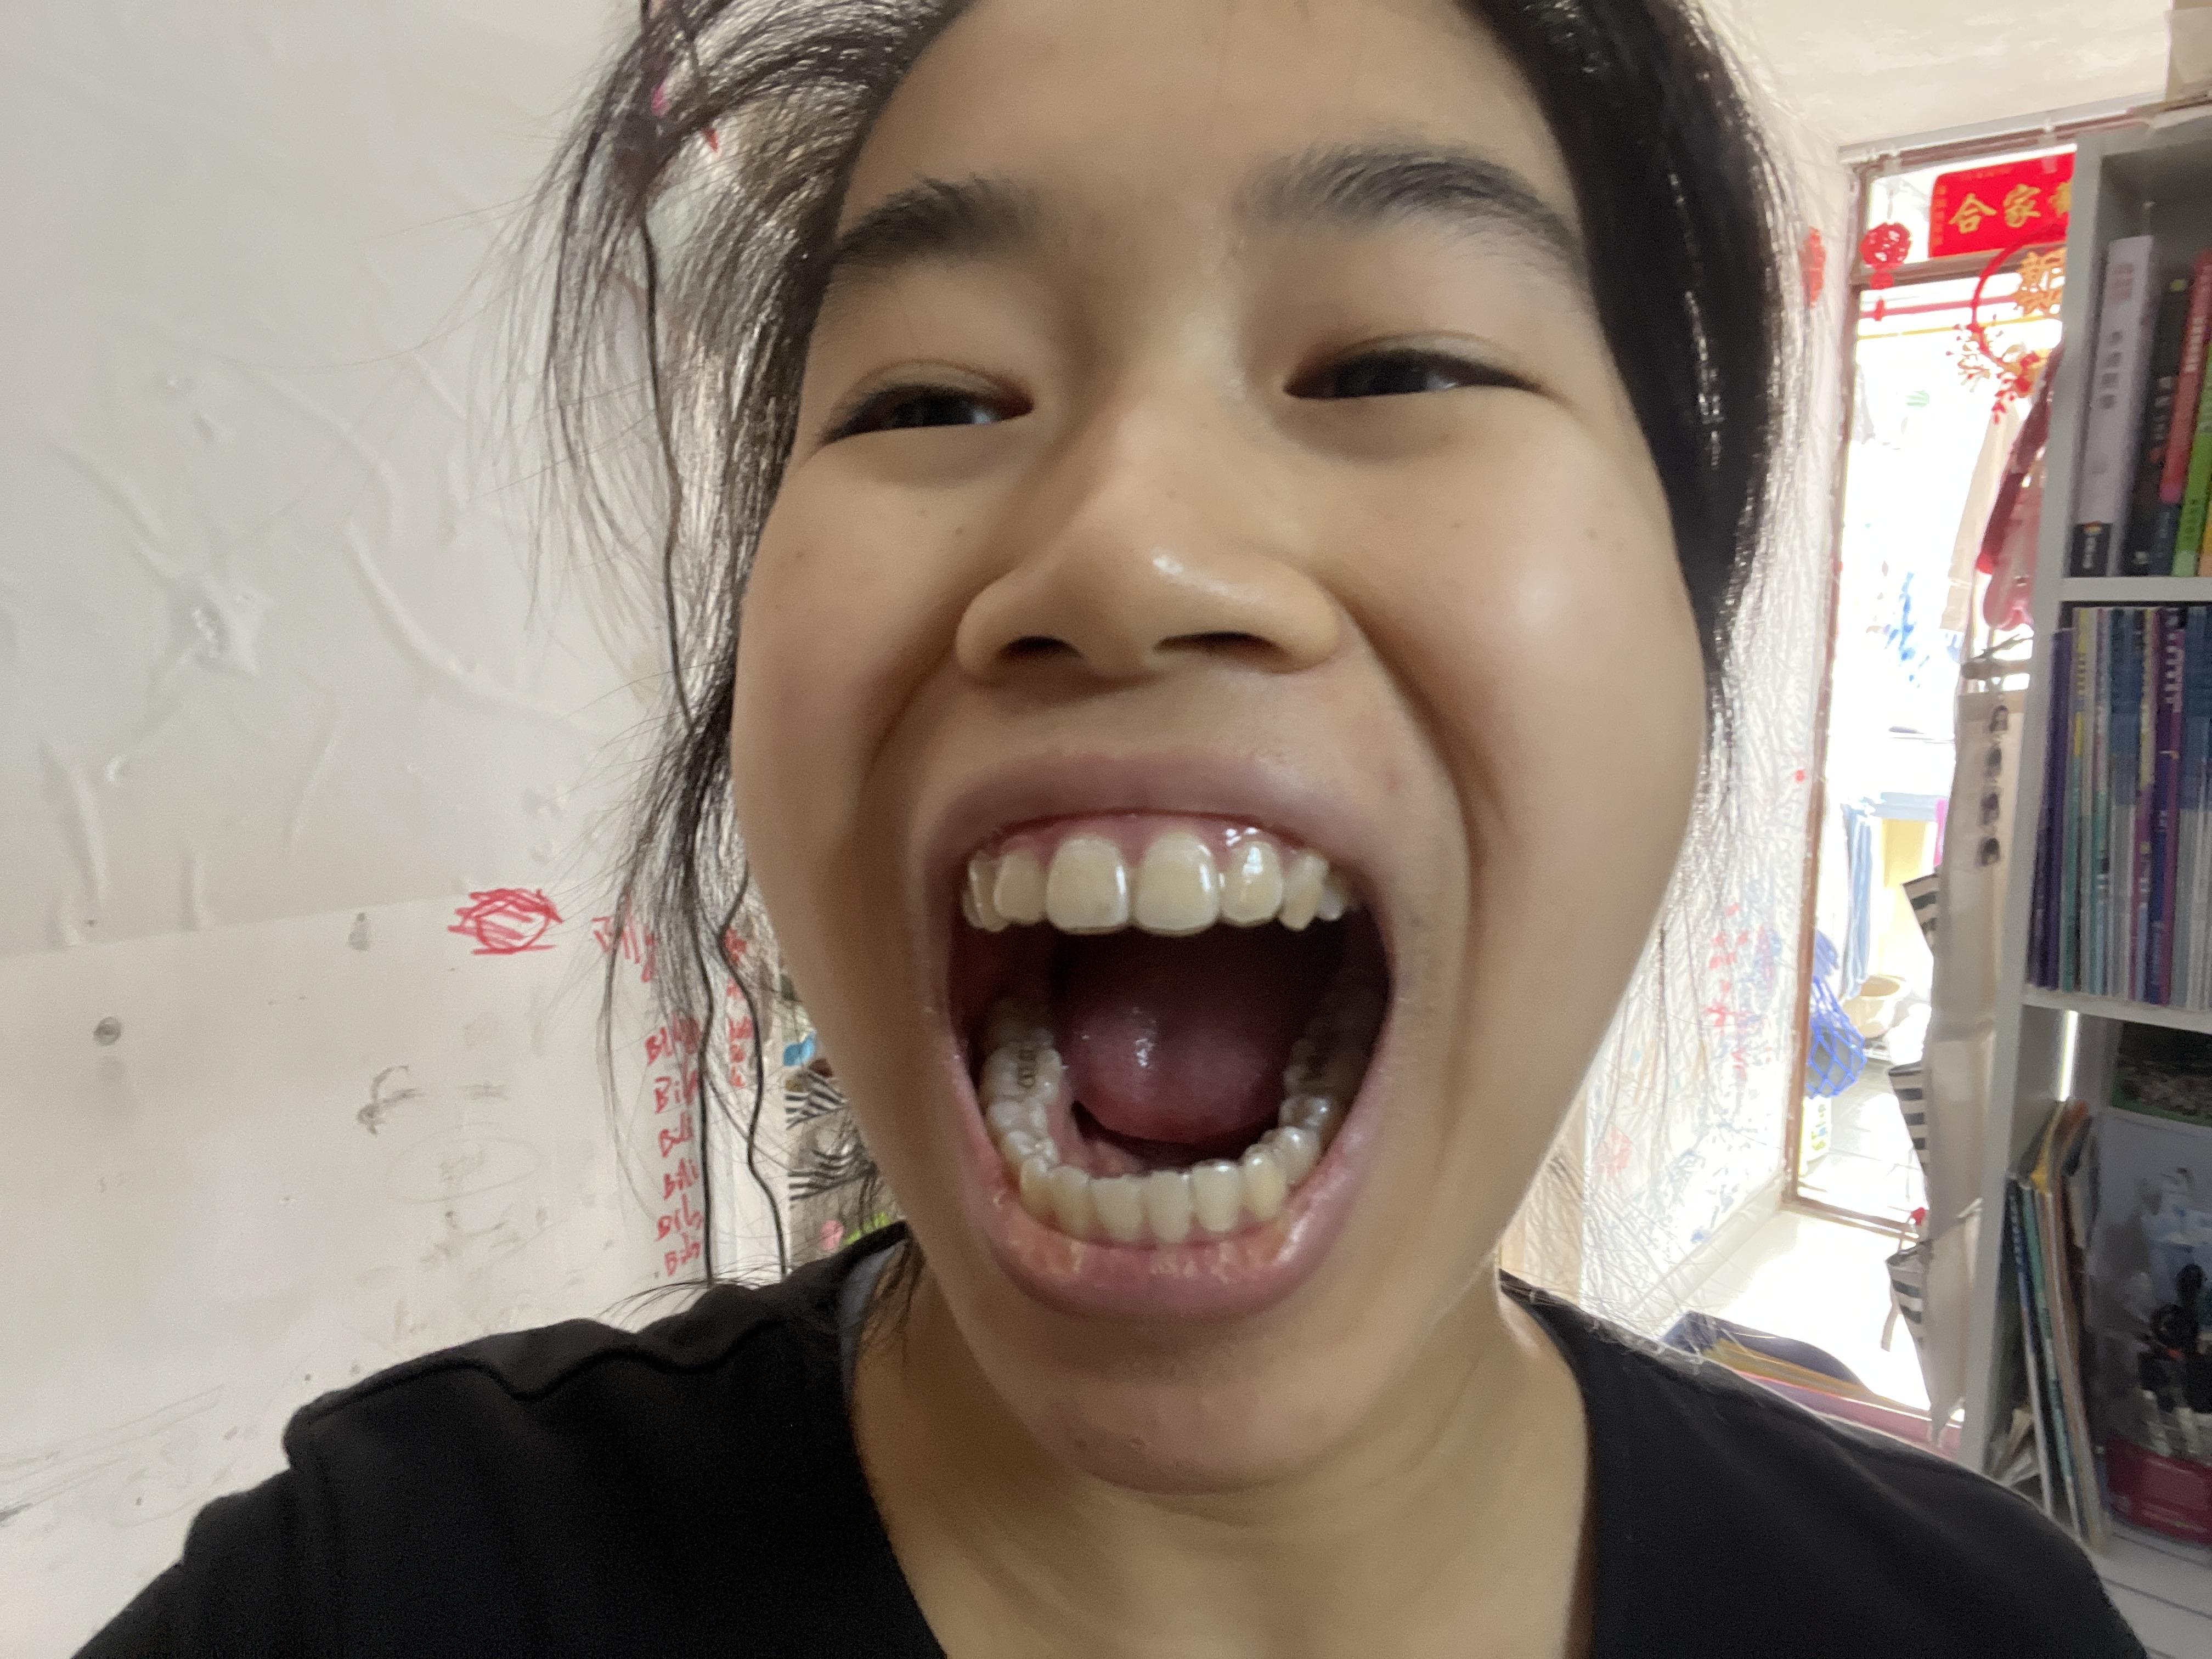teeth: (1137, 838, 1216, 929), (1049, 838, 1123, 931), (1223, 847, 1284, 929), (1287, 1035, 1364, 1094), (982, 1044, 1064, 1098), (1143, 1173, 1190, 1248), (1195, 1164, 1244, 1236), (1278, 852, 1324, 927), (993, 993, 1057, 1046), (996, 850, 1045, 918), (1244, 1147, 1287, 1215), (1094, 1180, 1141, 1239), (1017, 1155, 1059, 1218), (1285, 1093, 1341, 1140), (1052, 1169, 1092, 1230), (968, 856, 1001, 929), (989, 1100, 1049, 1133), (1271, 1131, 1317, 1173), (1000, 1134, 1059, 1166), (1325, 868, 1350, 917), (961, 887, 982, 927)
